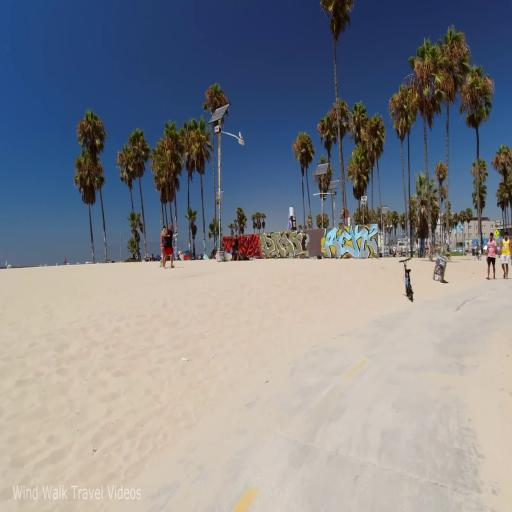Street_Light: (210, 95, 249, 267)
